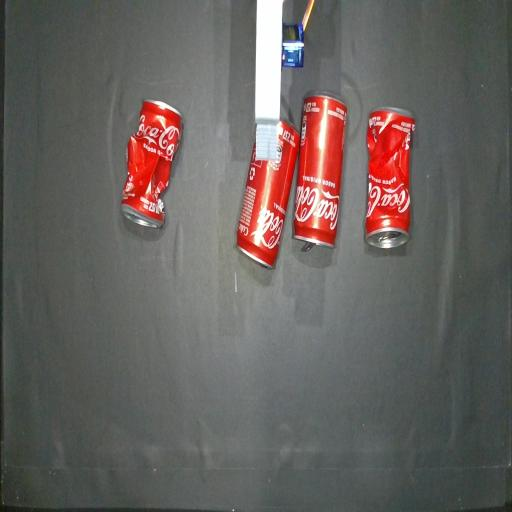lata: (236, 119, 299, 268), (293, 91, 347, 252)
lata_defectuoso: (122, 101, 183, 227), (365, 108, 415, 247)
